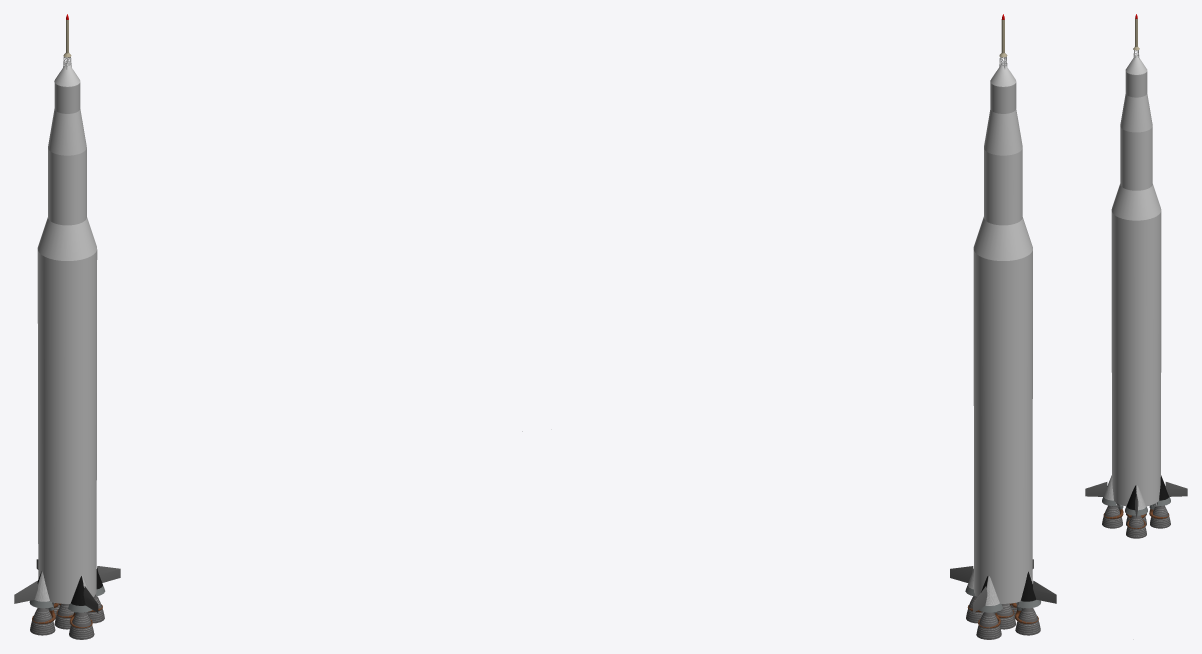
The model's file is saturn_v.obj.
The picture shows the model from 3 angles, left to right: view 1: azimuth 30°, elevation 25°; view 2: azimuth 150°, elevation 25°; view 3: azimuth 270°, elevation 25°; orthographic projection. The views are drawn at different scales.
Visible parts, largest first — view 1: saturn_v_low_poly_Cylinder.006, saturn_v_motori_low_poly_Cylinder.010, saturn_v_motori_low_poly.003_Cylinder.011, saturn_v_krilca_Cylinder.018; view 2: saturn_v_low_poly_Cylinder.006, saturn_v_motori_low_poly_Cylinder.010, saturn_v_motori_low_poly.003_Cylinder.011, saturn_v_krilca_Cylinder.018; view 3: saturn_v_low_poly_Cylinder.006, saturn_v_motori_low_poly_Cylinder.010, saturn_v_motori_low_poly.003_Cylinder.011, saturn_v_krilca_Cylinder.018, saturn_v_motori_low_poly.001_Cylinder.004.
Part boxes in pixels (left/top/right/bottom): saturn_v_low_poly_Cylinder.006: left=37, top=63, right=97, bottom=603; saturn_v_motori_low_poly_Cylinder.010: left=30, top=596, right=104, bottom=639; saturn_v_motori_low_poly.003_Cylinder.011: left=29, top=569, right=105, bottom=612; saturn_v_krilca_Cylinder.018: left=14, top=559, right=120, bottom=612; saturn_v_low_poly_Cylinder.006: left=973, top=63, right=1032, bottom=603; saturn_v_motori_low_poly_Cylinder.010: left=966, top=596, right=1040, bottom=639; saturn_v_motori_low_poly.003_Cylinder.011: left=965, top=569, right=1040, bottom=612; saturn_v_krilca_Cylinder.018: left=950, top=559, right=1056, bottom=612; saturn_v_low_poly_Cylinder.006: left=1111, top=55, right=1161, bottom=506; saturn_v_motori_low_poly_Cylinder.010: left=1102, top=502, right=1170, bottom=538; saturn_v_motori_low_poly.003_Cylinder.011: left=1102, top=475, right=1170, bottom=515; saturn_v_krilca_Cylinder.018: left=1085, top=482, right=1187, bottom=517; saturn_v_motori_low_poly.001_Cylinder.004: left=1103, top=509, right=1169, bottom=528.
Size of the model in its own units: 18.23 by 20.98 by 3.83.
